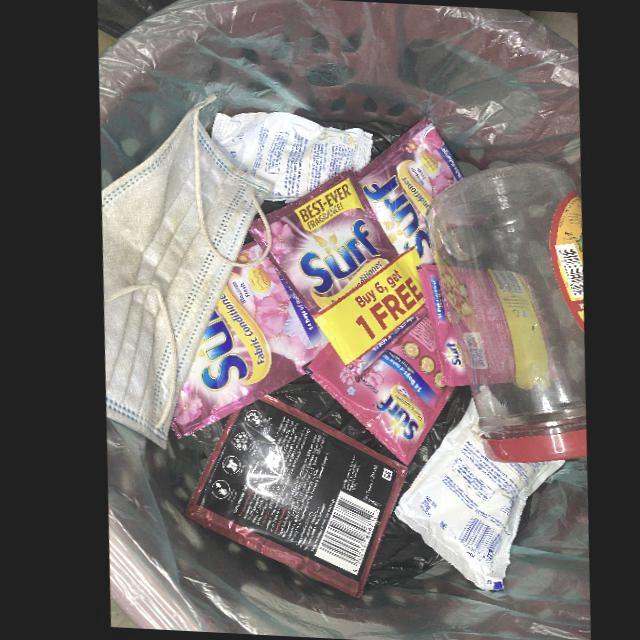plastic_container: (423, 163, 580, 465)
plastic_sachet: (177, 395, 401, 600), (244, 170, 422, 382), (386, 399, 558, 592), (163, 242, 324, 441), (299, 316, 450, 464), (413, 265, 554, 385), (354, 116, 461, 264), (207, 112, 370, 203)
